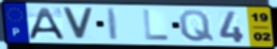4: (218, 9, 247, 44)
A: (26, 6, 67, 41)
I: (105, 7, 120, 42)
L: (142, 9, 172, 42)
Q: (177, 9, 216, 43)
V: (60, 6, 96, 42)
